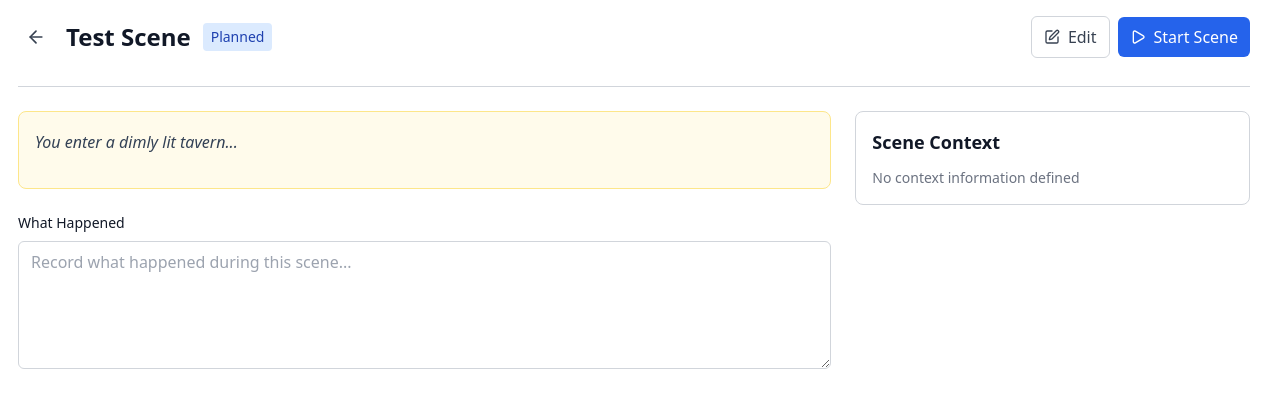
Test: Scene Runner Page - What Happened Notes › should show save indicator after notes are saved
Step 1. Type "Content" into the text box → (425, 305), box [18,241,831,369]
Wait 1750 ms
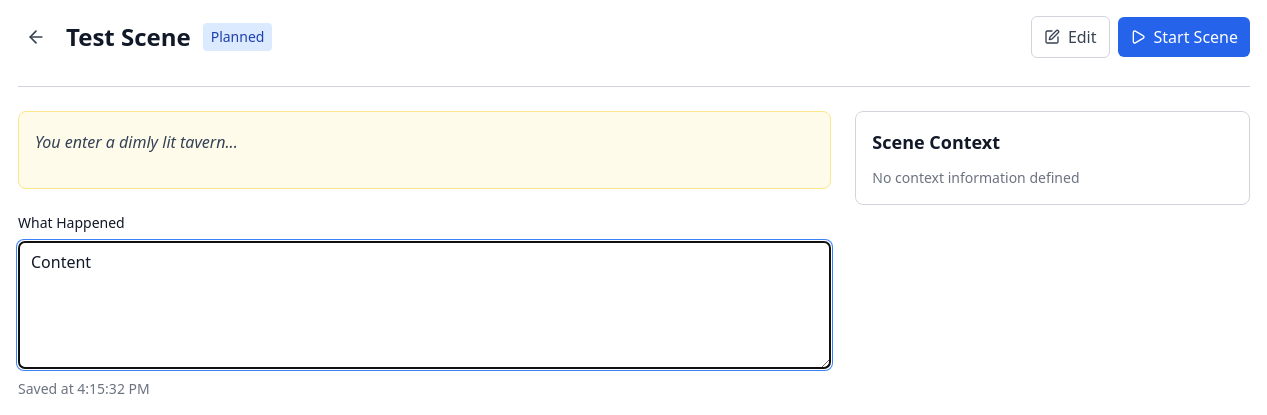
Result: the text "Saved at 4:15:32 PM" is shown at [18,379,150,398]
